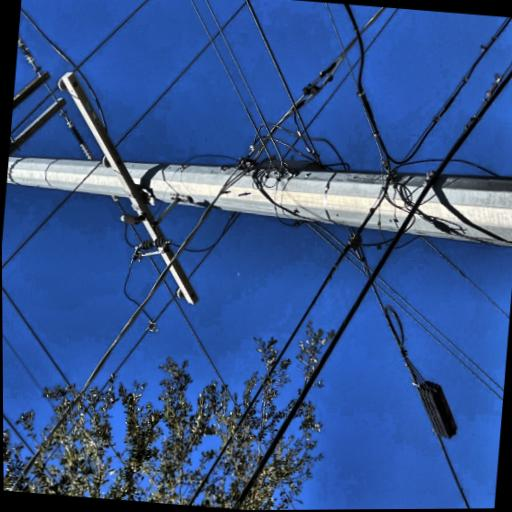pole: (100, 0, 245, 507)
